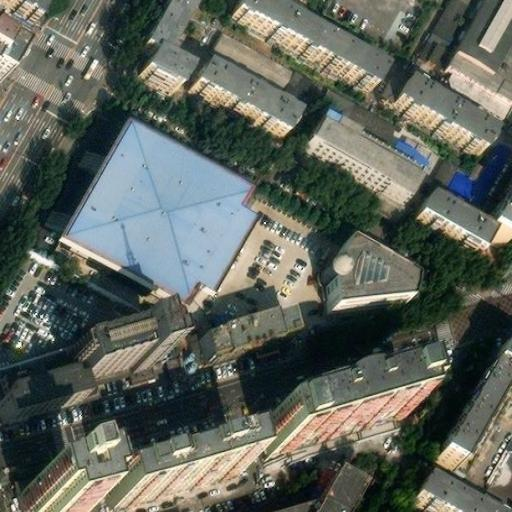building: (56, 119, 253, 310), (276, 367, 431, 445), (424, 345, 512, 474), (318, 86, 439, 173), (301, 116, 415, 203), (100, 446, 239, 508), (188, 59, 290, 134), (391, 78, 487, 149), (317, 243, 404, 314), (64, 314, 170, 372), (450, 0, 512, 92), (197, 309, 293, 362), (214, 27, 294, 86), (1, 362, 86, 412), (414, 193, 486, 248), (0, 347, 70, 395), (405, 477, 478, 512), (478, 165, 512, 238), (135, 48, 183, 92), (17, 479, 78, 512), (307, 475, 355, 512), (482, 445, 511, 503)
